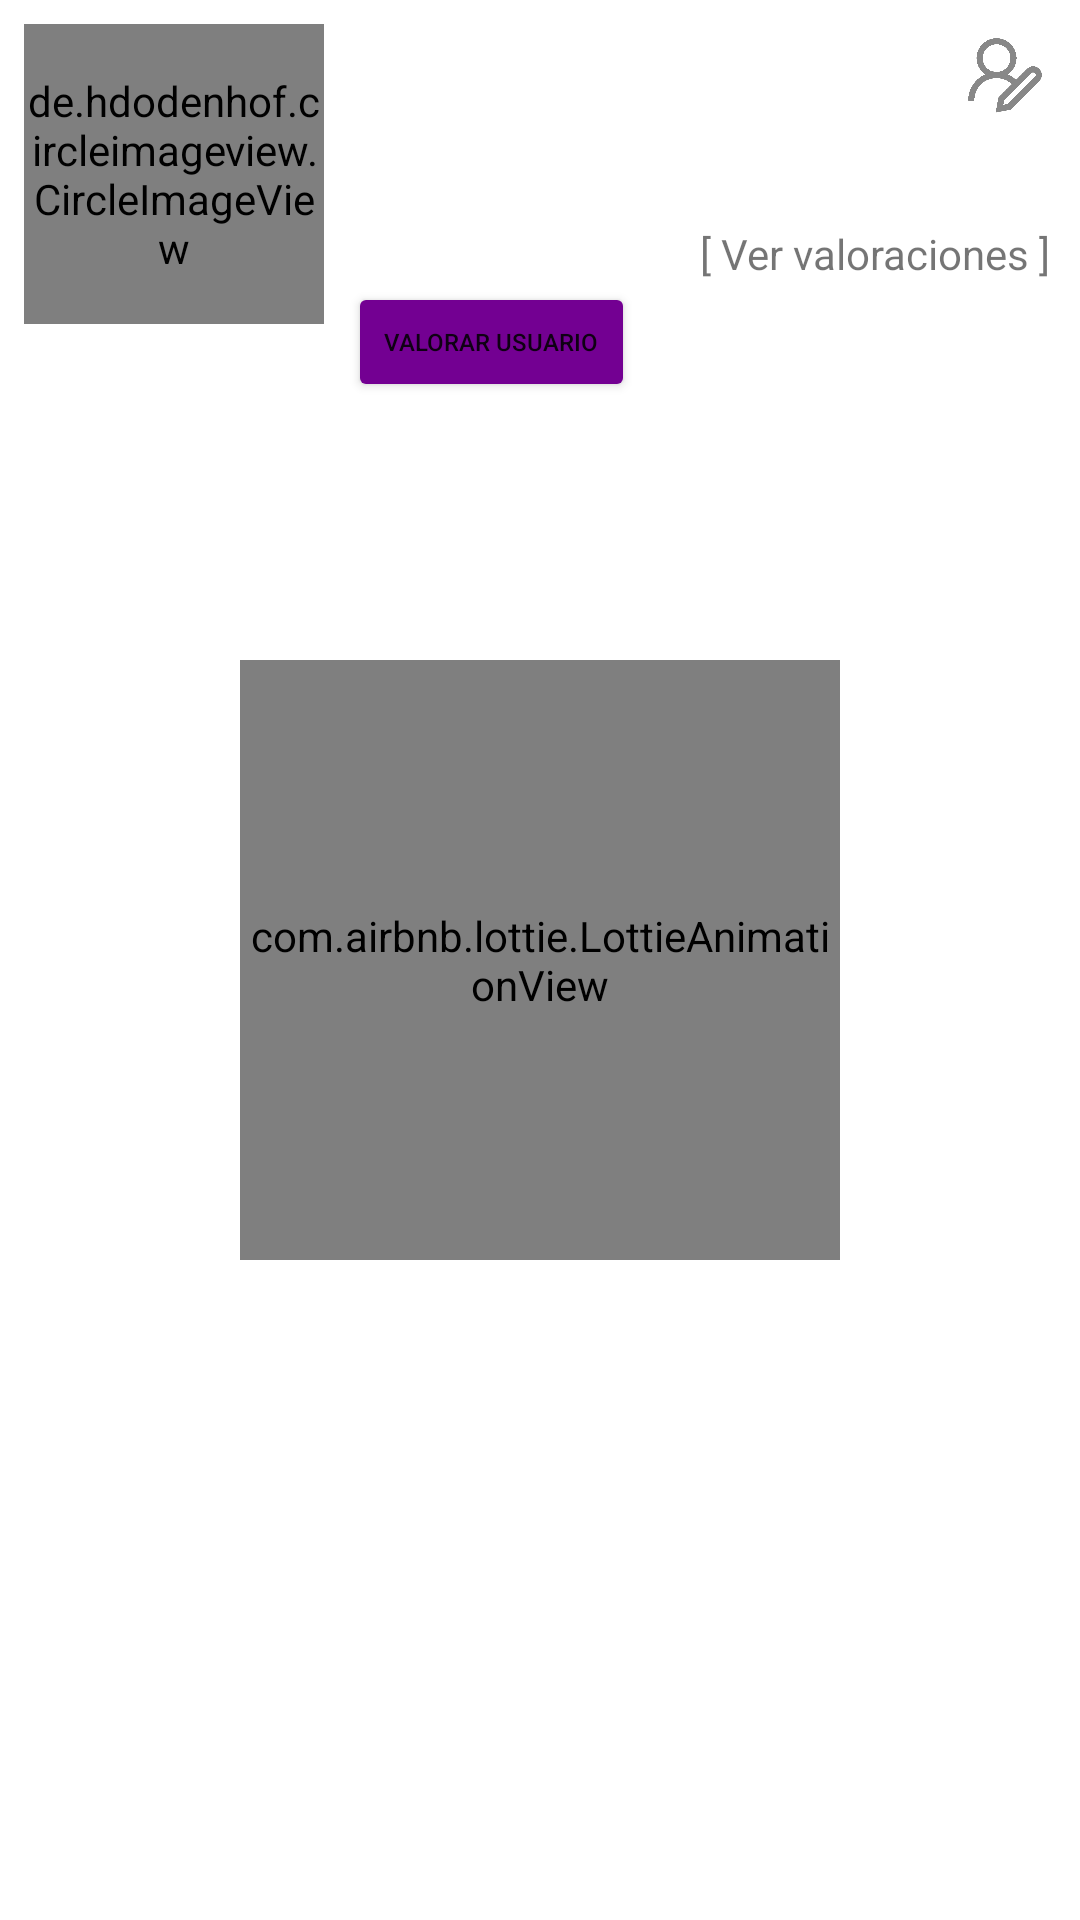

Icons on this 1080x1920 Android screen, each with the point to tap as point (x, y):
edit profile: point (1005, 75)
